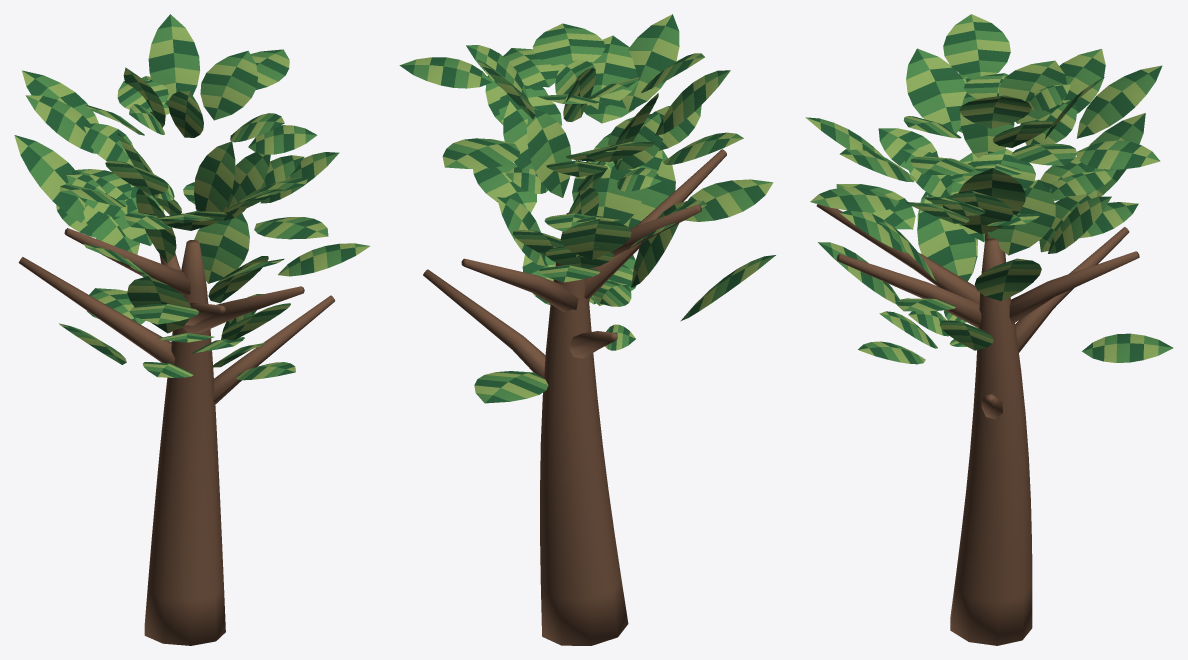
The model's file is arvore_tropical_ampla_LOD0-2.fbx.
The picture shows the model from 3 angles, left to right: view 1: azimuth 30°, elevation 25°; view 2: azimuth 150°, elevation 25°; view 3: azimuth 270°, elevation 25°; orthographic projection. The views are drawn at different scales.
Parts seen in each view (by area): view 1: arvore_tropical_ampla_LOD0; view 2: arvore_tropical_ampla_LOD0; view 3: arvore_tropical_ampla_LOD0.
Boxes of the visible parts, x1,y1,x2,y2 form: arvore_tropical_ampla_LOD0: (14,14,370,645); arvore_tropical_ampla_LOD0: (399,14,775,645); arvore_tropical_ampla_LOD0: (805,14,1173,645).
Size of what is drawn, in the model's own units: 288 by 516 by 300.
